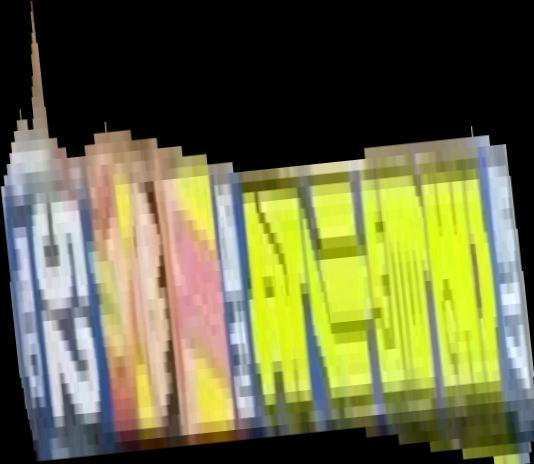flat: (1, 1, 534, 464)
